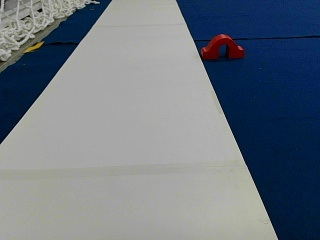bridge: (201, 34, 243, 58)
